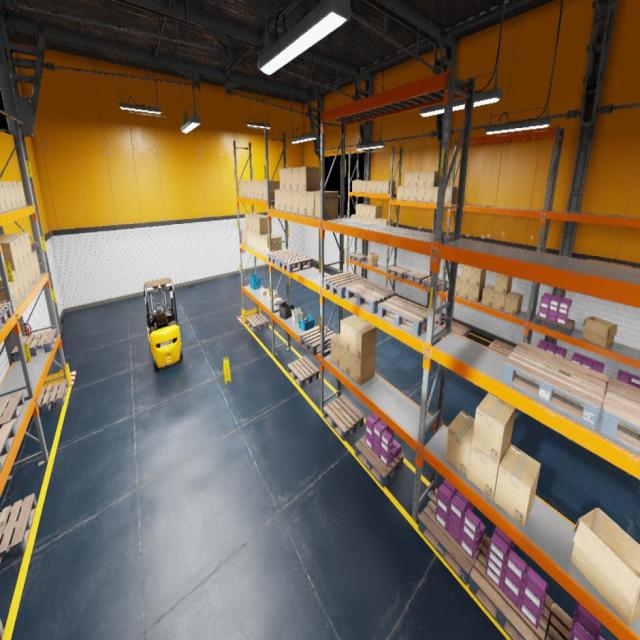box: (570, 507, 640, 626), (494, 444, 541, 528), (472, 393, 515, 465), (468, 444, 510, 500), (444, 411, 474, 478), (582, 317, 618, 348), (350, 320, 376, 360), (340, 314, 364, 352), (349, 351, 375, 386), (0, 232, 32, 258), (0, 235, 29, 261), (0, 237, 25, 265), (0, 270, 21, 302), (314, 192, 338, 218), (0, 239, 20, 270), (306, 191, 328, 217), (298, 167, 320, 190), (504, 291, 523, 316), (0, 276, 16, 304), (494, 273, 513, 295), (492, 291, 510, 312), (0, 181, 13, 210), (330, 333, 340, 368), (264, 236, 282, 254), (260, 234, 277, 253), (255, 216, 272, 235), (469, 267, 486, 286), (481, 285, 495, 308), (263, 181, 279, 200), (468, 284, 484, 303), (16, 266, 26, 296), (340, 344, 349, 376), (251, 214, 266, 233), (8, 182, 18, 209), (244, 213, 259, 230), (21, 263, 30, 291), (460, 264, 473, 283), (13, 181, 22, 208), (248, 215, 262, 232), (444, 186, 457, 204), (29, 255, 37, 282), (0, 182, 7, 212), (26, 260, 34, 286), (18, 181, 26, 206), (33, 253, 41, 277), (458, 282, 469, 299), (426, 172, 439, 186), (367, 252, 379, 267), (299, 191, 306, 215), (292, 190, 299, 213), (285, 168, 292, 191), (370, 205, 382, 218), (383, 180, 395, 193), (292, 168, 299, 190), (285, 191, 292, 213), (365, 205, 376, 218), (425, 187, 434, 202), (279, 168, 285, 190), (280, 190, 286, 212), (360, 204, 370, 217), (418, 186, 426, 202), (274, 190, 280, 210), (410, 186, 418, 201), (418, 172, 426, 186), (403, 186, 411, 200), (411, 172, 418, 187), (404, 172, 411, 187), (356, 203, 364, 216), (397, 186, 404, 200), (258, 181, 263, 200), (455, 276, 460, 295), (432, 187, 438, 202), (250, 181, 255, 198), (381, 219, 392, 226), (254, 181, 258, 199), (243, 180, 247, 198), (256, 234, 260, 252), (371, 180, 377, 192), (356, 180, 362, 192), (252, 233, 256, 250), (248, 231, 252, 248), (242, 228, 246, 245), (377, 180, 382, 193), (268, 296, 276, 304), (269, 290, 277, 298), (245, 230, 249, 245), (366, 180, 371, 192), (274, 298, 282, 305), (261, 288, 268, 296), (247, 180, 250, 198), (240, 180, 243, 197), (362, 180, 366, 192), (352, 180, 356, 192), (376, 218, 385, 223), (267, 291, 274, 297), (350, 214, 356, 220), (370, 218, 375, 224), (0, 202, 2, 212), (365, 218, 370, 222), (360, 217, 365, 221), (356, 216, 360, 220)
forklift: (144, 277, 183, 372)
pallets: (502, 341, 607, 429), (468, 538, 553, 640), (418, 489, 485, 585), (598, 377, 640, 454), (0, 493, 37, 563), (355, 434, 403, 487), (378, 296, 428, 337), (324, 395, 364, 441), (11, 328, 58, 362), (346, 281, 395, 313), (31, 379, 68, 418), (323, 271, 368, 299), (299, 325, 337, 355), (534, 312, 576, 336), (288, 356, 320, 387), (546, 602, 572, 640), (0, 392, 25, 428), (0, 420, 16, 473), (278, 254, 313, 273), (267, 248, 299, 266), (587, 258, 632, 268), (246, 313, 269, 332), (488, 340, 515, 356), (442, 321, 470, 336), (422, 276, 446, 292), (0, 302, 13, 330), (404, 270, 428, 284), (388, 265, 410, 278), (349, 253, 368, 263), (434, 314, 444, 324), (603, 387, 607, 400)
